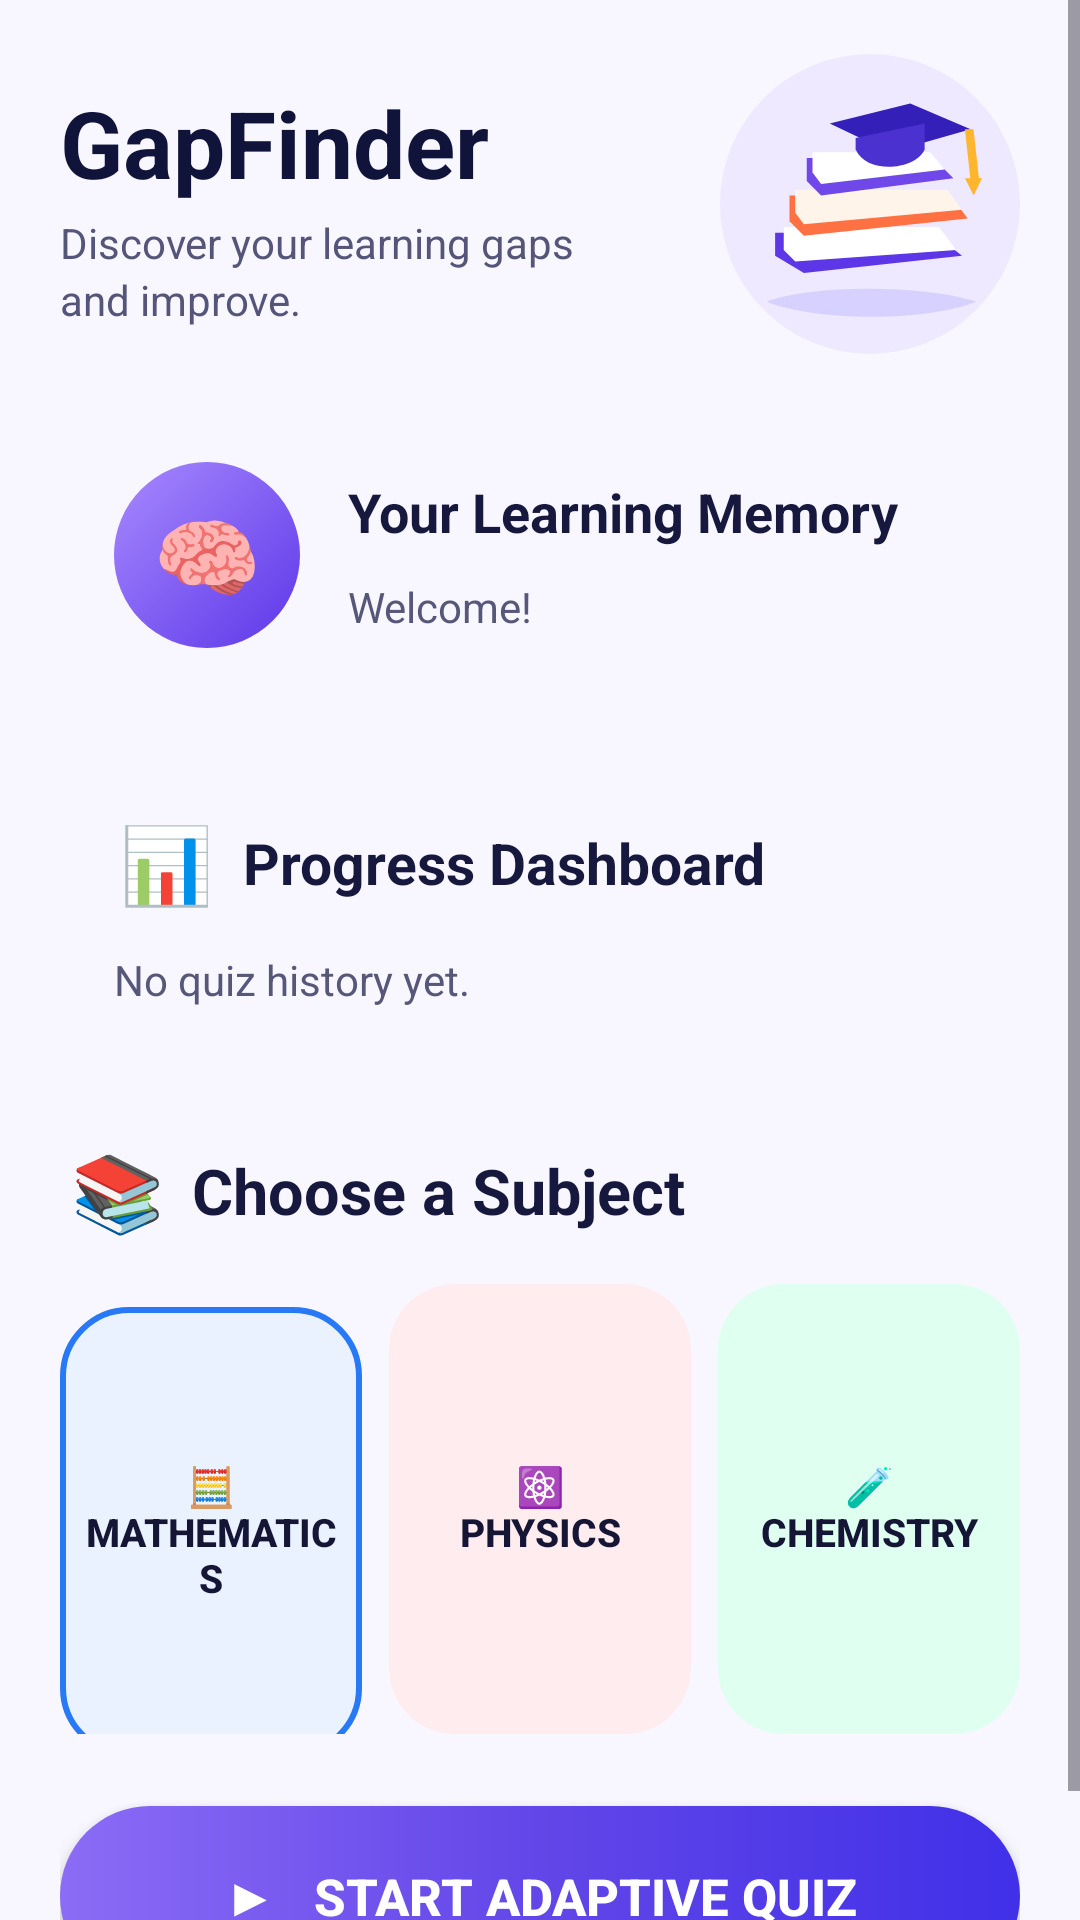

Icon bounding boxes for this 1080w x 1920h phone screenshot, format {"x1": x1, "y1": y1, "x2": x2, "y2": y2}:
Learning illustration: {"x1": 732, "y1": 66, "x2": 1008, "y2": 342}
